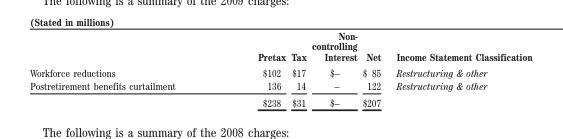table: (29, 29, 531, 108)
table column: (29, 29, 215, 108), (387, 29, 531, 108), (215, 29, 287, 108), (308, 29, 359, 108), (359, 29, 387, 108), (287, 29, 308, 108)
table column header: (29, 29, 531, 64)
table row: (29, 29, 531, 64), (29, 64, 531, 79), (29, 79, 531, 94), (29, 94, 531, 108)
